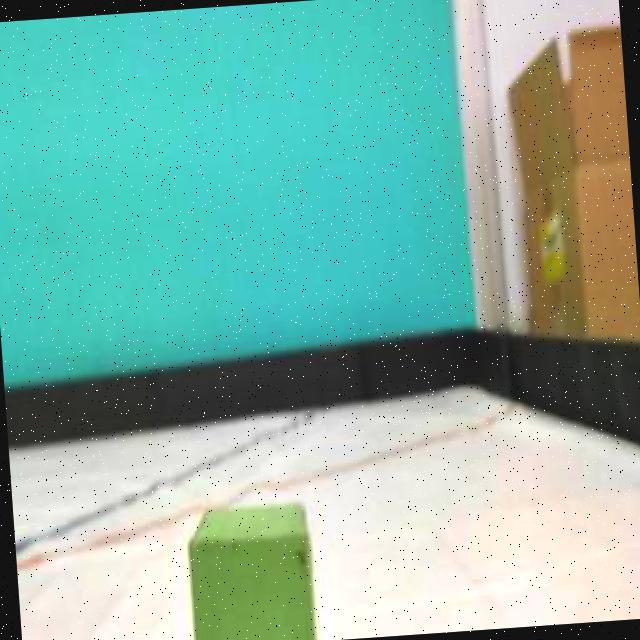greenbox: (180, 497, 317, 640)
